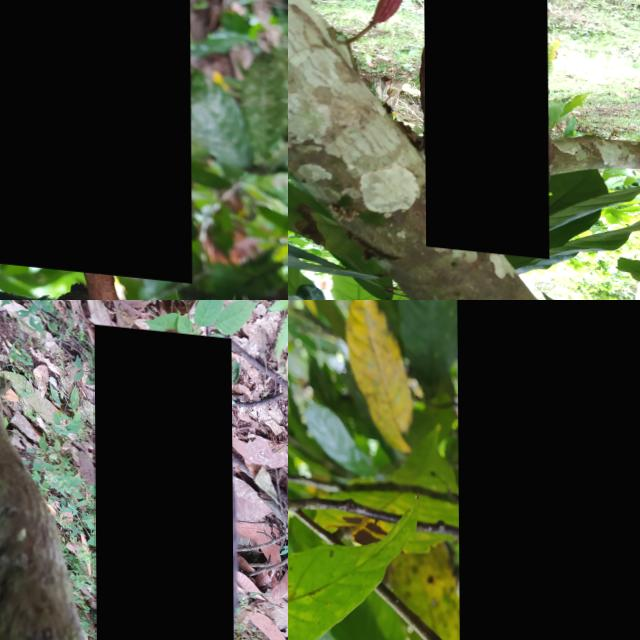Fitoftora: (423, 0, 548, 249)
Monilia: (456, 300, 640, 640), (0, 0, 191, 274)
Sana: (92, 319, 233, 640), (367, 0, 412, 19)
